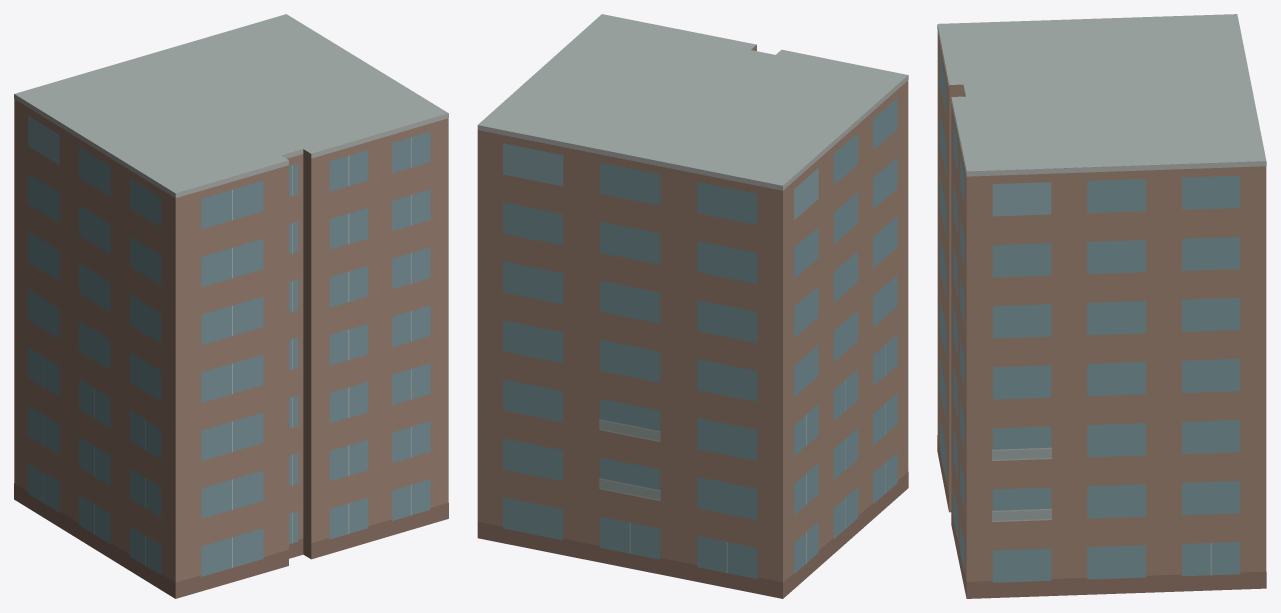
Rendered from survey-upis-32742222.glb.
3 renders of one model, left to right at view 1: azimuth 30°, elevation 25°; view 2: azimuth 150°, elevation 25°; view 3: azimuth 270°, elevation 25°, orthographic. The views are drawn at different scales.
Parts seen in each view (by area): view 1: survey-upis-32742222.tmp; view 2: survey-upis-32742222.tmp; view 3: survey-upis-32742222.tmp.
Part boxes in pixels (x1,y1,x2,y2): survey-upis-32742222.tmp: (14,14,448,598); survey-upis-32742222.tmp: (477,14,908,598); survey-upis-32742222.tmp: (937,14,1266,598).
Size of the model in its own units: 16.05 by 20.3 by 14.17.
